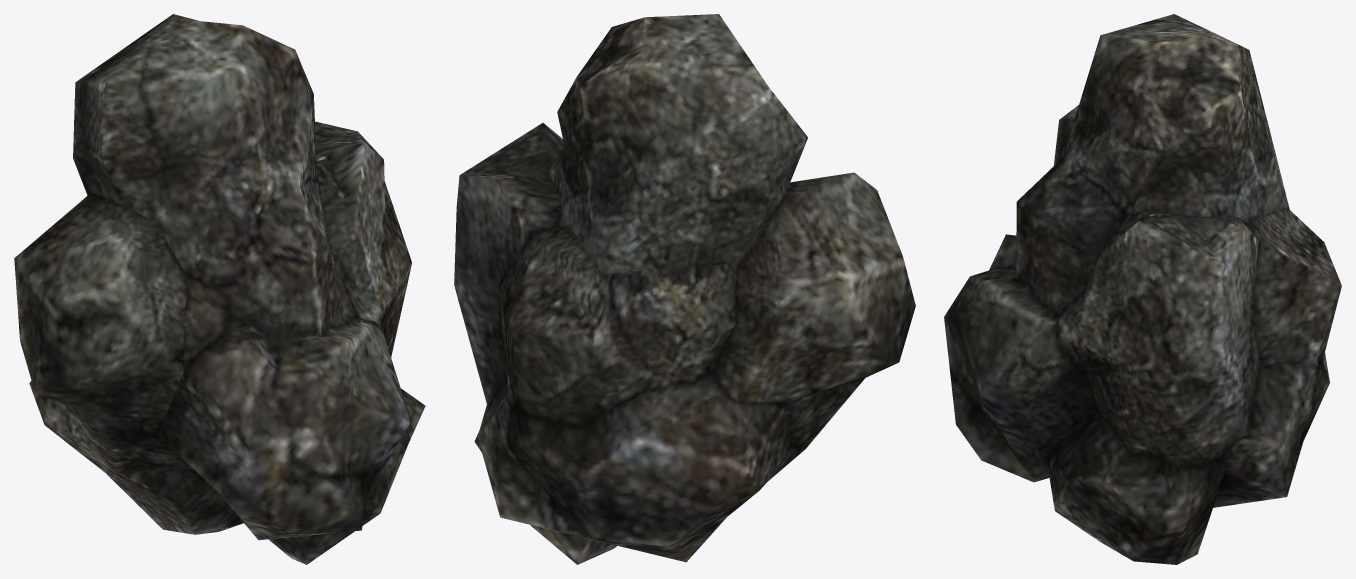
File: Rock1.fbx
3 renders of one model, left to right at view 1: azimuth 30°, elevation 25°; view 2: azimuth 150°, elevation 25°; view 3: azimuth 270°, elevation 25°, orthographic. The views are drawn at different scales.
Parts seen in each view (by area): view 1: Rock1_300_tris_Group37058; view 2: Rock1_300_tris_Group37058; view 3: Rock1_300_tris_Group37058.
Part boxes in pixels (<box>): Rock1_300_tris_Group37058: <box>14,14,425,564</box>; Rock1_300_tris_Group37058: <box>454,14,915,564</box>; Rock1_300_tris_Group37058: <box>944,14,1341,564</box>.
Bounding box in the file's own units: 4.97 × 6.47 × 4.72.
